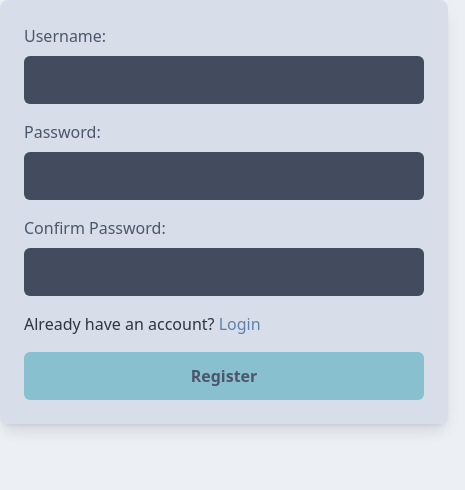
RegisterPage › should not submit the form when passwords do not match and display error
The width and height of the screenshot is (465, 490).
Type "sam" into the field labelled "Username:". click: coordinates (224, 80)
box: [24,56,424,104]
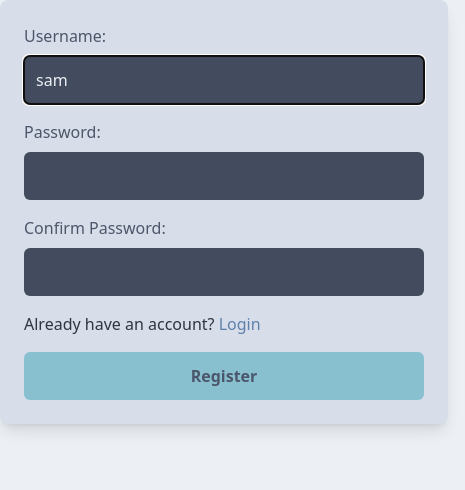
Type "password123" into the password field labelled "Password:". click: coordinates (224, 176)
box: [24,152,424,200]
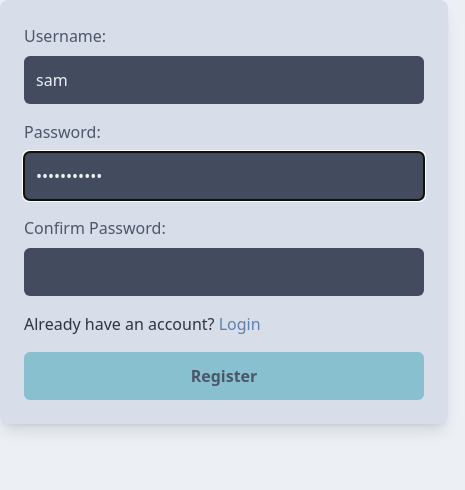
Type "password" into the password field labelled "Confirm Password:". click: coordinates (224, 272)
box: [24,248,424,296]
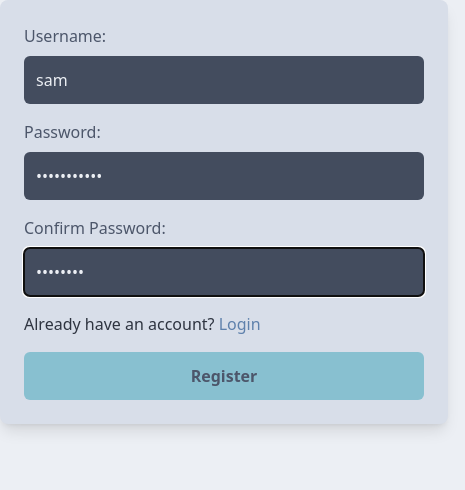
Click the button "Register". click: coordinates (224, 376)
box: [24,352,424,400]
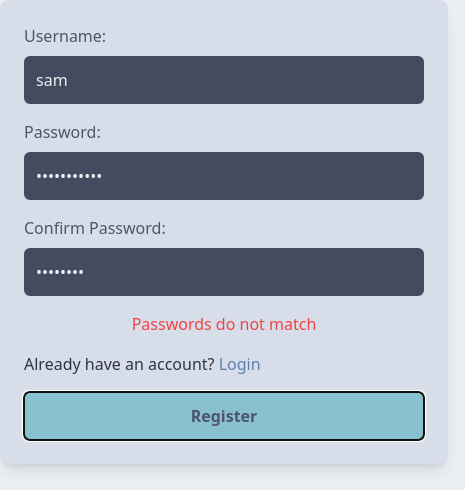
Check: the text "Passwords do not match" is shown, box [132,313,316,335]
